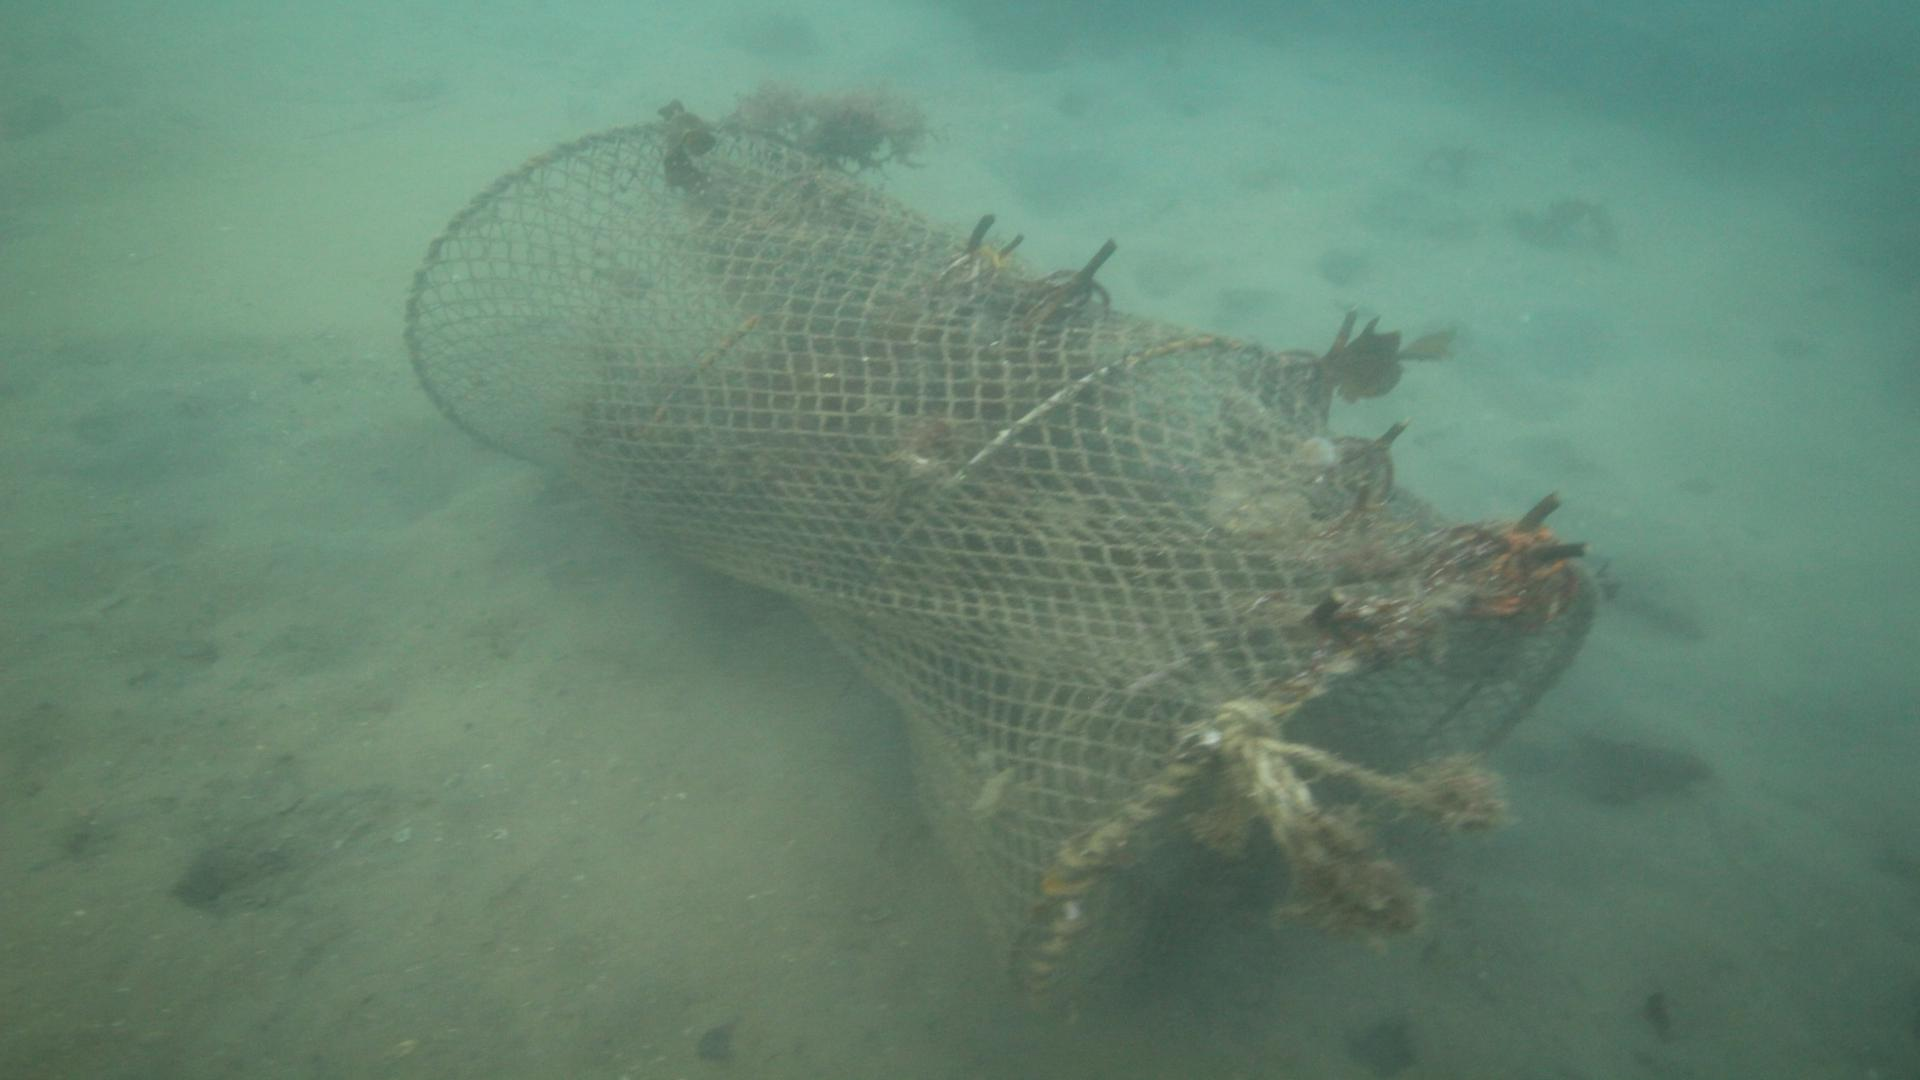spring fish trap: (400, 117, 1596, 1019)
